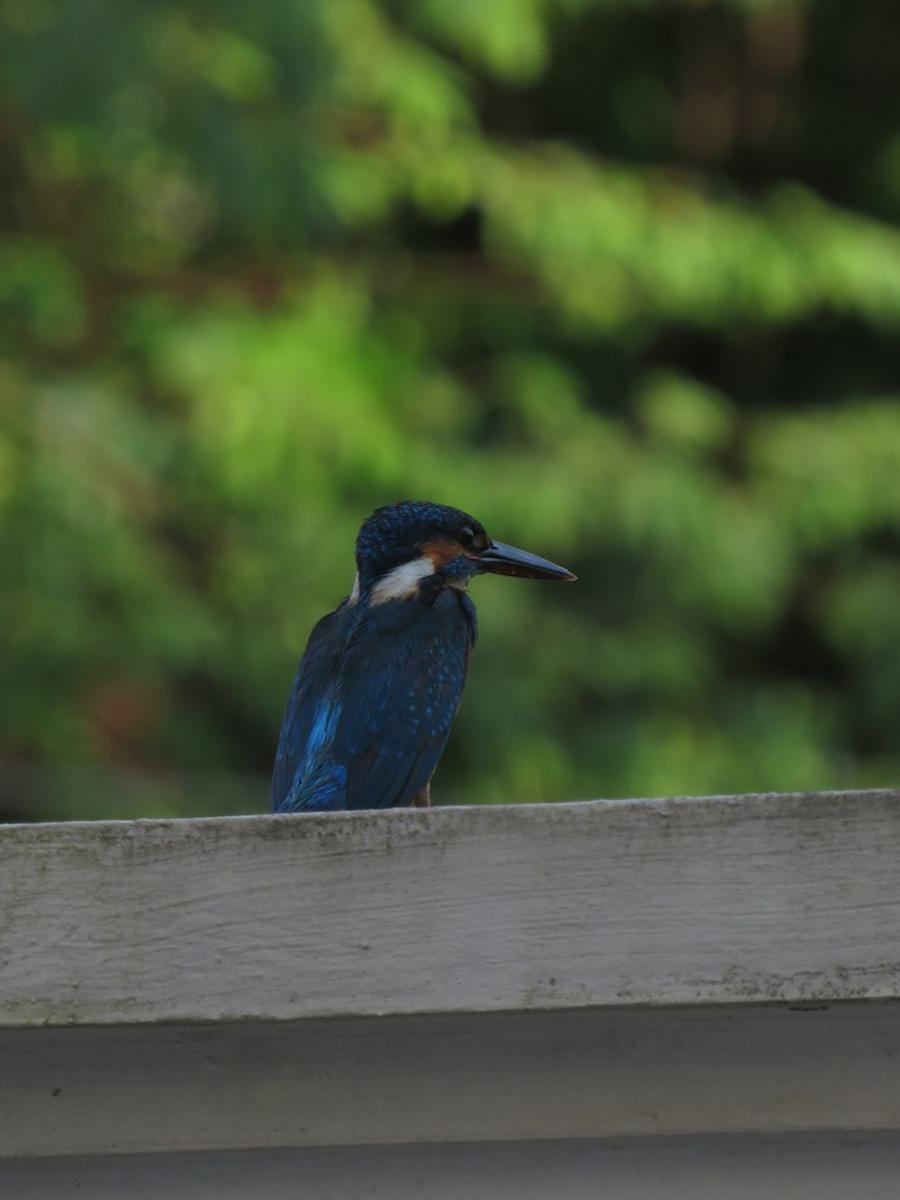kingfisher: (287, 491, 583, 807)
